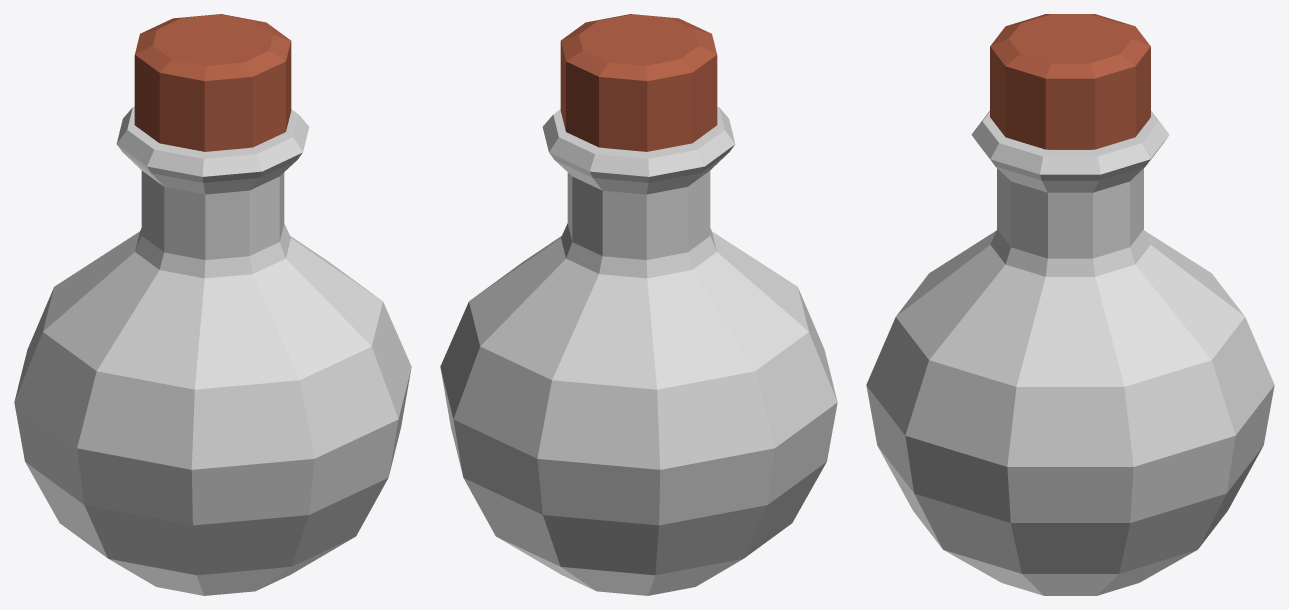
File: Potion_Red.fbx
The picture shows the model from 3 angles, left to right: view 1: azimuth 30°, elevation 25°; view 2: azimuth 150°, elevation 25°; view 3: azimuth 270°, elevation 25°; orthographic projection.
Parts seen in each view (by area): view 1: Potion, Potion_cap; view 2: Potion, Potion_cap; view 3: Potion, Potion_cap.
Boxes of the visible parts, left/top/right/bottom form: Potion: left=14, top=106, right=411, bottom=595; Potion_cap: left=134, top=14, right=291, bottom=151; Potion: left=440, top=106, right=837, bottom=595; Potion_cap: left=560, top=14, right=717, bottom=151; Potion: left=866, top=111, right=1274, bottom=595; Potion_cap: left=990, top=14, right=1150, bottom=149.
Size of the model in its own units: 13.43 by 19.95 by 14.12.
